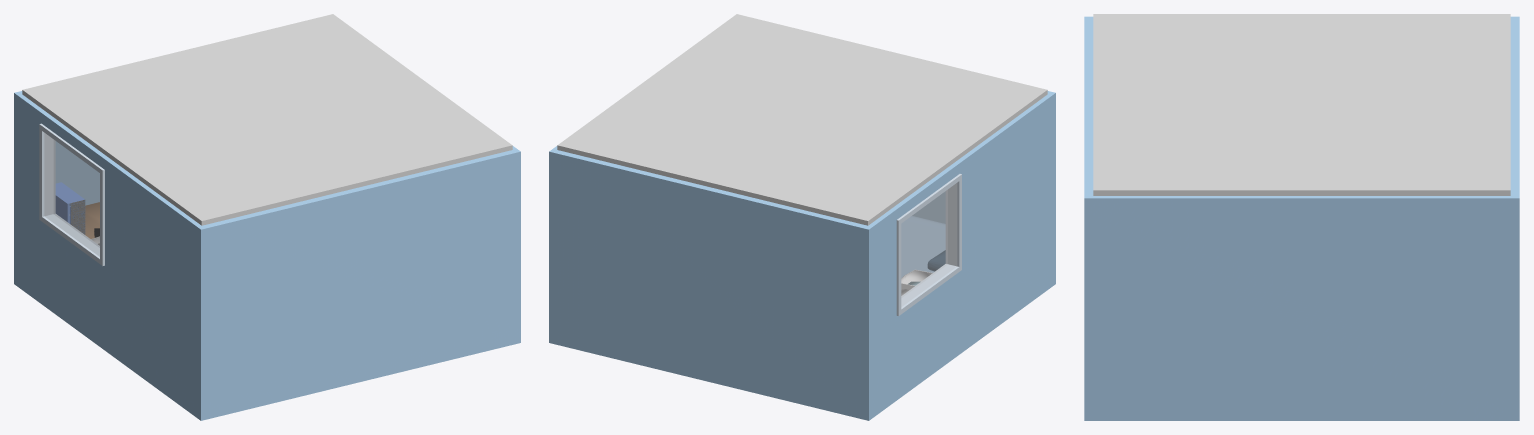
File: ernest_room-transformed.glb
The picture shows the model from 3 angles, left to right: view 1: azimuth 30°, elevation 25°; view 2: azimuth 150°, elevation 25°; view 3: azimuth 270°, elevation 25°; orthographic projection. The views are drawn at different scales.
Parts seen in each view (by area): view 1: Plane.006, Cylinder, Window Glass, Plane.002, Cube.005, table; view 2: Plane.006, Cylinder, Plane.002, Window Glass; view 3: Plane.006, Cylinder.
Part boxes in pixels (<box>): Plane.006: <box>14,91,520,420</box>; Cylinder: <box>22,14,512,225</box>; Window Glass: <box>44,133,99,256</box>; Plane.002: <box>39,123,104,265</box>; Cube.005: <box>55,182,85,234</box>; table: <box>85,202,99,238</box>; Plane.006: <box>549,91,1055,420</box>; Cylinder: <box>557,14,1047,225</box>; Plane.002: <box>896,174,961,316</box>; Window Glass: <box>901,183,956,306</box>; Plane.006: <box>1084,16,1519,420</box>; Cylinder: <box>1093,14,1510,195</box>.
Bounding box in the file's own units: 7.05 × 4.1 × 7.09.
Materials: 8 (8 with a texture image).
